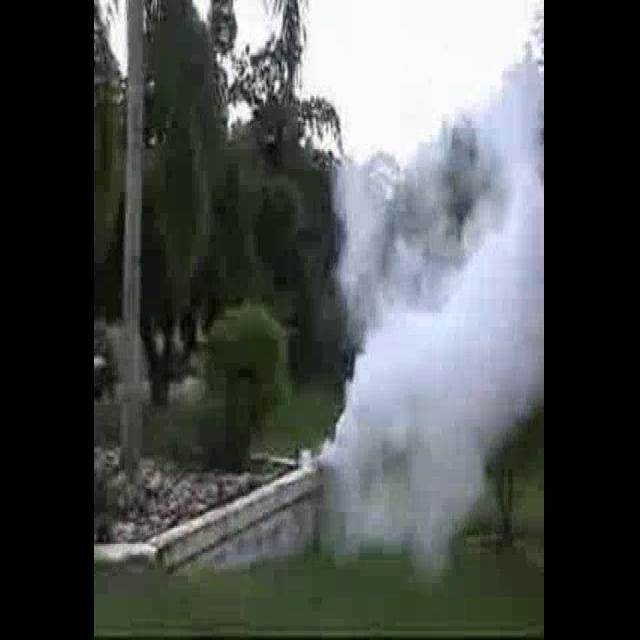Smoke: (316, 44, 544, 572)
